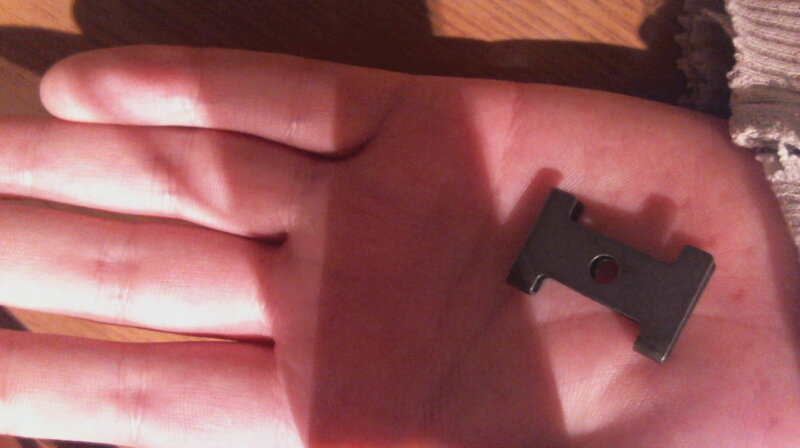O002: (503, 185, 721, 359)
